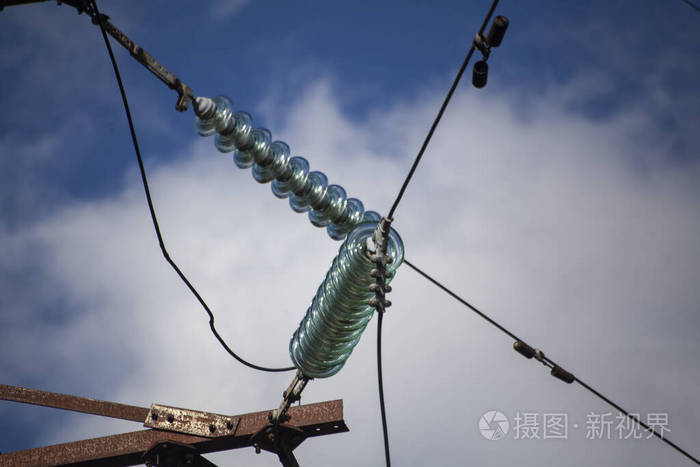insulator: (199, 96, 383, 240), (290, 219, 401, 376)
